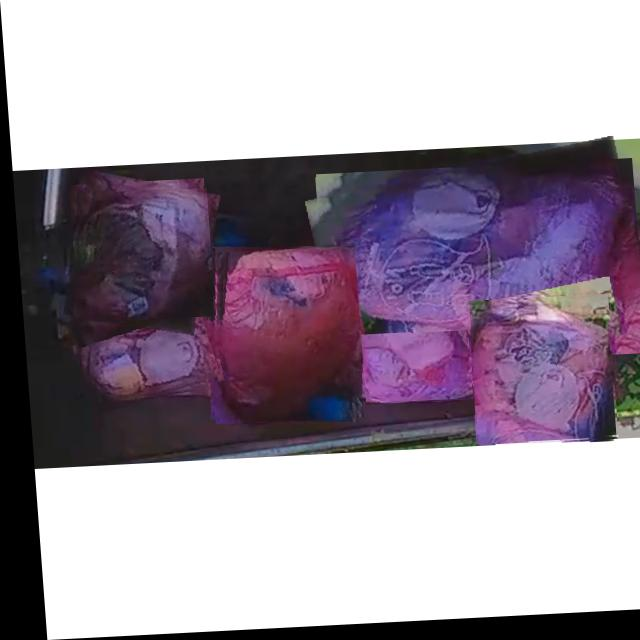general_trashbag: (319, 176, 621, 350), (210, 250, 355, 422), (467, 303, 605, 445), (73, 189, 206, 321), (74, 292, 211, 399), (353, 340, 466, 407)
